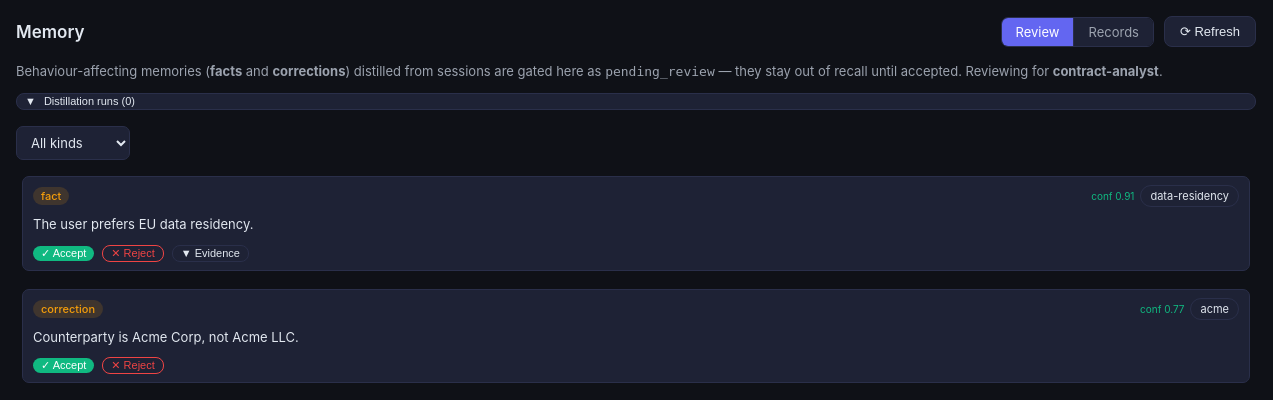
it: review › rejects a memory and removes its row
Expected: the text "Counterparty is Acme Corp, not Acme LLC." is shown, [33, 328, 299, 344]
Step 1. Click the button "✕ Reject" below "Counterparty is Acme Corp, not Acme LLC." → (133,366), box [102, 357, 164, 374]
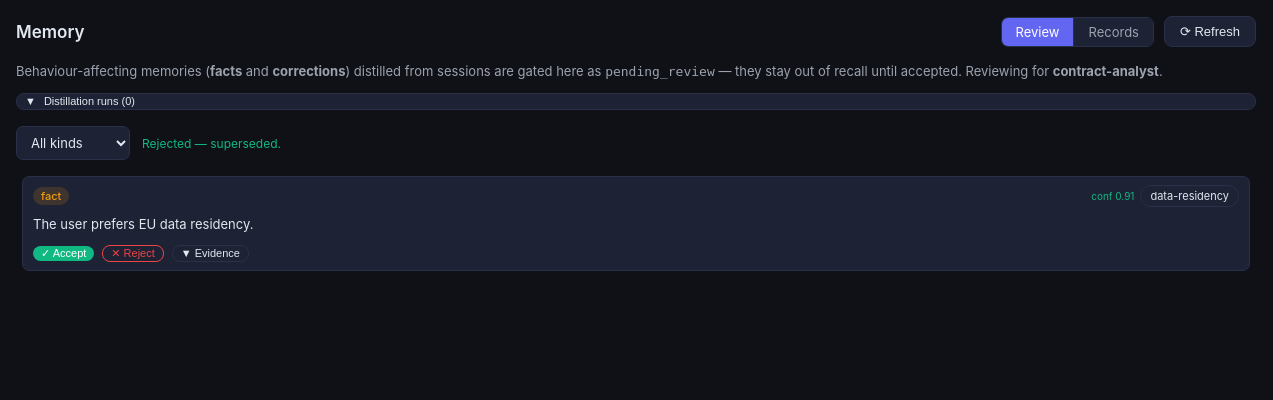
Expected: the text "Acme Corp" is gone
Expected: the text "Rejected — superseded." is shown, [142, 136, 281, 150]
